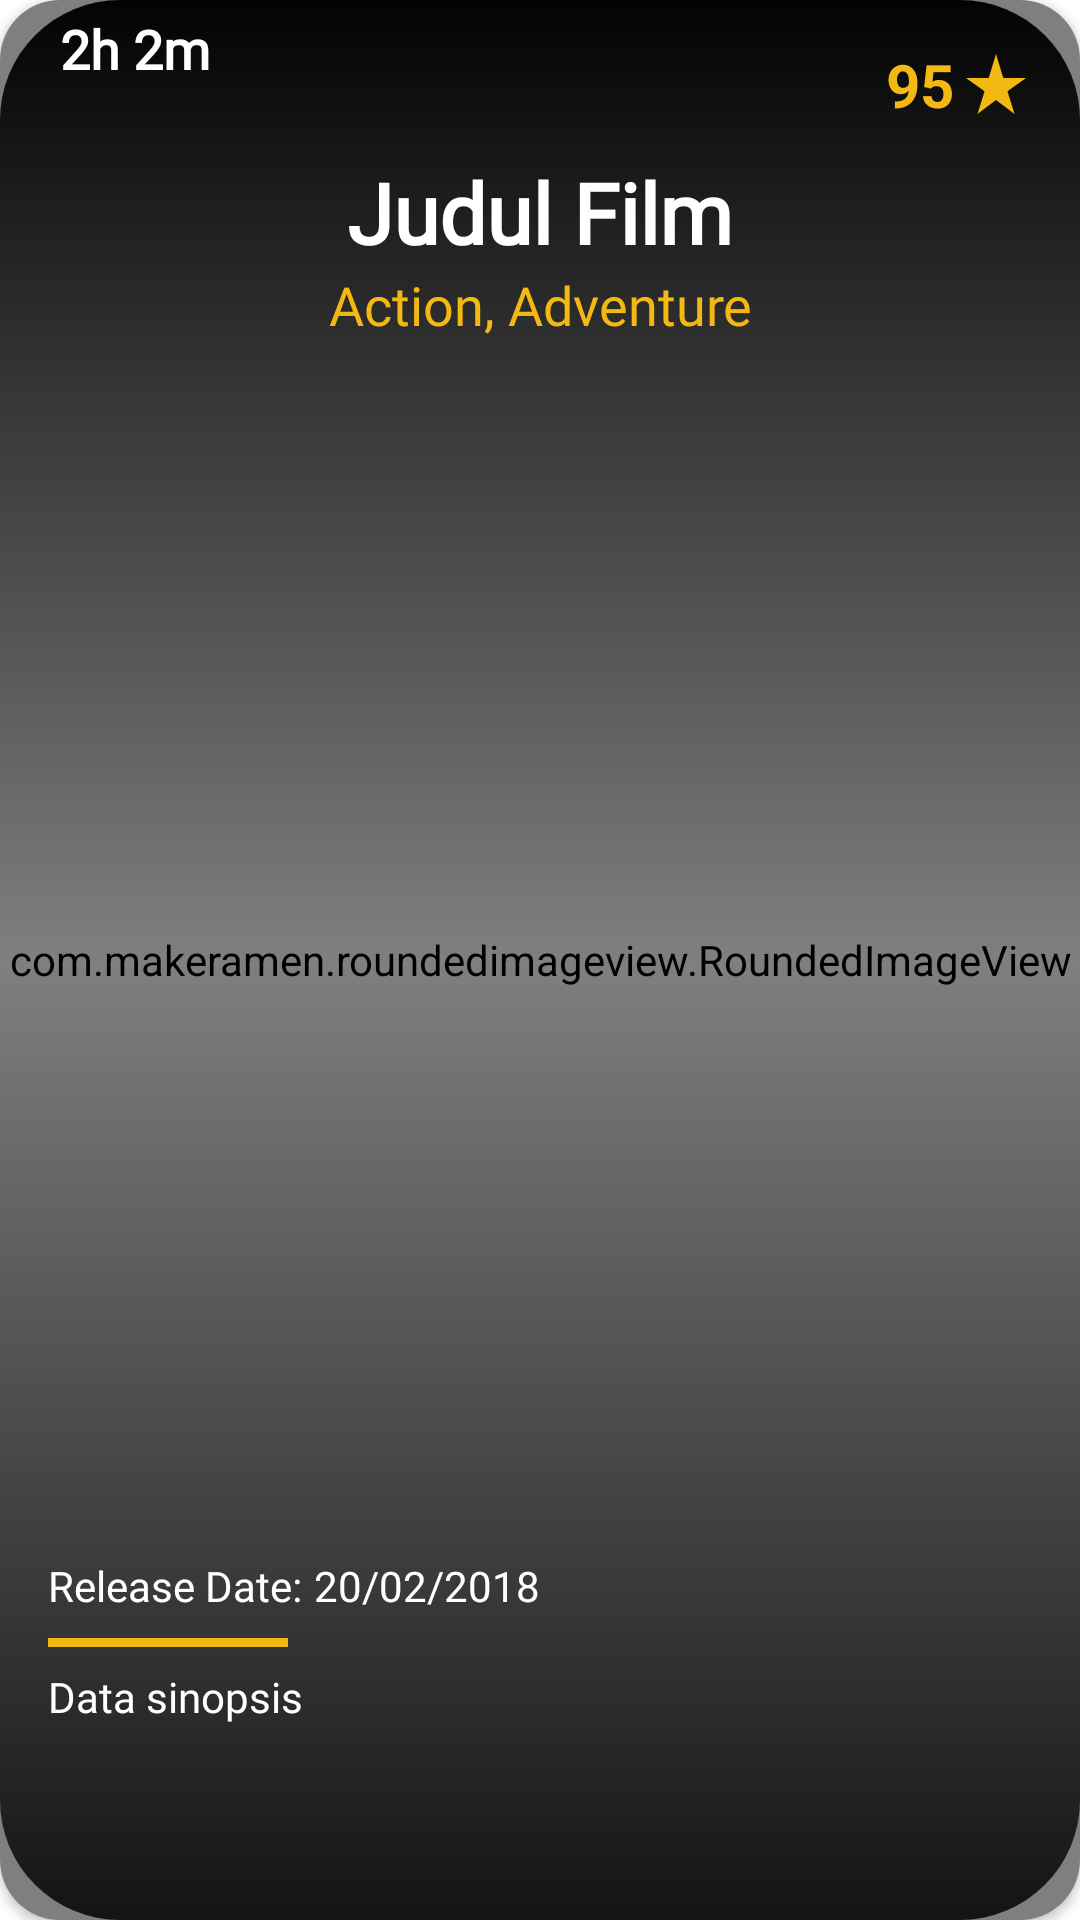

Point at icon controls on the screen. Image size 1080*1920, points as point (x, y).
star rate: point (996, 84)
